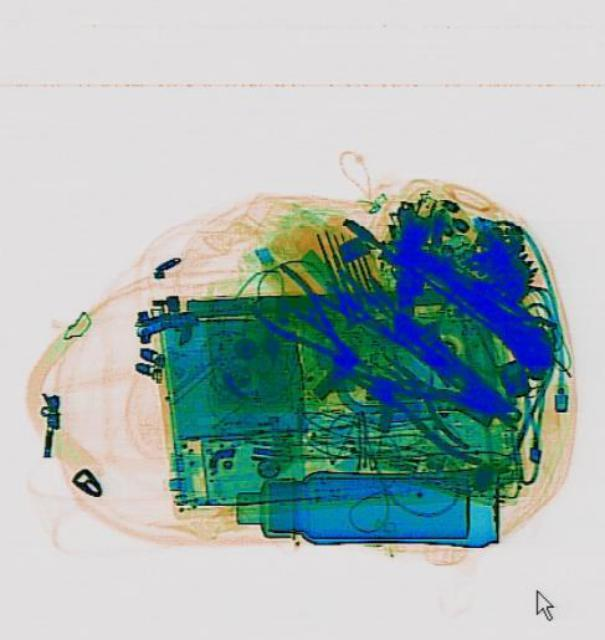Pliers: (330, 343, 519, 473), (240, 259, 373, 381)
